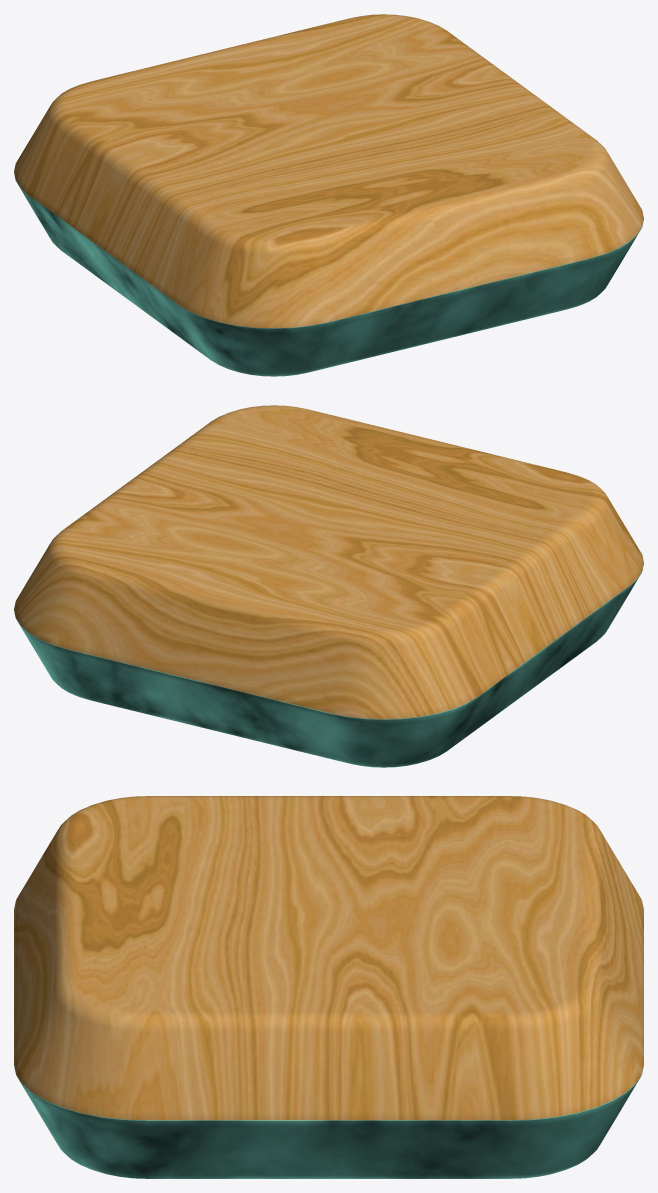
The model's file is burger animation.glb.
3 views of the same model, one above another, from view 1: azimuth 30°, elevation 25°; view 2: azimuth 150°, elevation 25°; view 3: azimuth 270°, elevation 25° (orthographic). The views are drawn at different scales.
Visible parts, largest first — view 1: Top, Bottom; view 2: Top, Bottom; view 3: Top, Bottom.
Boxes of the visible parts, <box> form: Top: <box>14,14,643,328</box>; Bottom: <box>14,173,643,376</box>; Top: <box>14,405,643,719</box>; Bottom: <box>14,564,643,767</box>; Top: <box>14,796,643,1120</box>; Bottom: <box>14,1065,643,1178</box>.
Bounding box in the file's own units: 0.1398 × 0.04 × 0.1398.
Materials: 2 (2 with a texture image).
